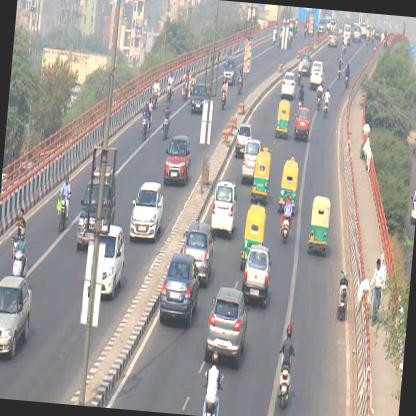car: (205, 288, 250, 364), (160, 254, 204, 326), (0, 275, 35, 362), (77, 170, 116, 246), (89, 226, 127, 302), (177, 224, 217, 288), (130, 181, 166, 239), (208, 177, 241, 240), (240, 245, 272, 304), (201, 348, 228, 415), (165, 134, 192, 184), (56, 172, 73, 234), (240, 140, 260, 188), (280, 192, 297, 242), (12, 226, 29, 275), (280, 69, 297, 100), (235, 123, 251, 155), (160, 102, 172, 142), (296, 108, 312, 138), (219, 77, 230, 109), (311, 60, 324, 87), (408, 189, 415, 226), (323, 89, 331, 118)
motorcycle: (275, 324, 296, 405)
